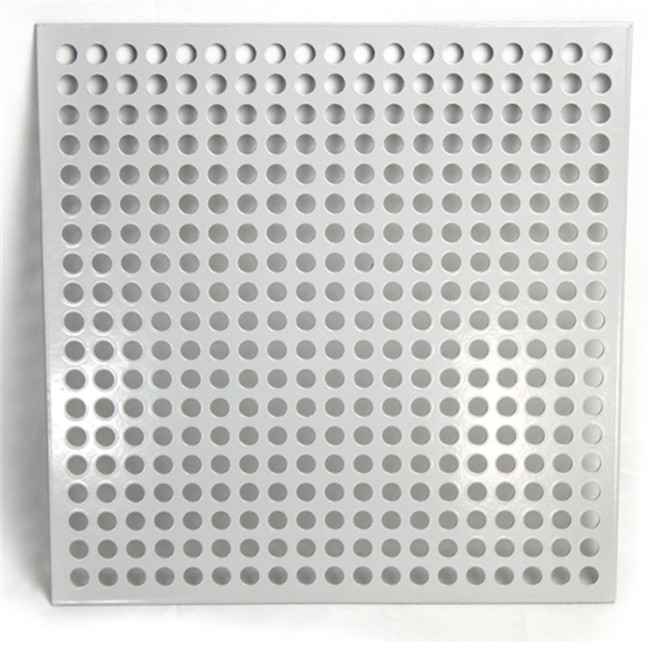Hole: (52, 41, 81, 70), (379, 190, 410, 217), (409, 189, 438, 217), (408, 130, 438, 157), (556, 130, 585, 157), (438, 189, 467, 216), (321, 190, 350, 217), (233, 191, 263, 217), (498, 40, 526, 67), (497, 129, 525, 156), (263, 160, 290, 188), (172, 39, 198, 68), (410, 39, 436, 68), (439, 131, 468, 157), (350, 131, 379, 157), (321, 131, 350, 157), (496, 190, 525, 216), (467, 190, 496, 216), (263, 190, 292, 216), (291, 191, 321, 216), (468, 40, 495, 67), (588, 40, 615, 67), (381, 130, 408, 157), (117, 162, 144, 189), (146, 161, 173, 188), (113, 72, 141, 98), (54, 72, 82, 98), (204, 161, 232, 187), (498, 159, 524, 187), (526, 190, 554, 216), (291, 41, 317, 68), (351, 40, 377, 67), (529, 40, 555, 67), (262, 101, 289, 127), (351, 101, 378, 127), (527, 101, 554, 127), (557, 101, 584, 127), (205, 131, 232, 157), (175, 161, 202, 187), (234, 161, 261, 187), (469, 160, 495, 187), (556, 160, 583, 186), (322, 41, 347, 69), (440, 39, 465, 67), (262, 131, 290, 156), (351, 191, 379, 216), (234, 102, 260, 128), (440, 101, 466, 127), (469, 101, 495, 127), (587, 100, 613, 126), (87, 132, 113, 158), (57, 162, 83, 188), (292, 160, 318, 186), (322, 161, 348, 187), (440, 161, 466, 187), (117, 191, 143, 217), (88, 191, 114, 217), (203, 40, 228, 67), (233, 41, 258, 68), (262, 41, 287, 68), (381, 40, 406, 67), (559, 40, 584, 67), (558, 71, 585, 96), (85, 103, 112, 128), (586, 130, 613, 155), (146, 132, 173, 157), (57, 133, 84, 158), (351, 161, 378, 186), (528, 160, 553, 187), (232, 72, 260, 96), (143, 73, 171, 97), (233, 132, 261, 156), (175, 192, 203, 216), (114, 42, 139, 68), (439, 71, 465, 96), (292, 72, 318, 97), (203, 72, 229, 97), (174, 72, 200, 97), (84, 72, 110, 97), (56, 103, 82, 128), (116, 103, 142, 128), (204, 102, 230, 127), (292, 102, 318, 127), (322, 101, 347, 127), (410, 101, 436, 126), (175, 132, 201, 157), (116, 131, 142, 156), (88, 161, 114, 186), (410, 161, 436, 186), (206, 191, 232, 216), (58, 192, 84, 217), (587, 71, 614, 95), (555, 191, 582, 215), (84, 42, 109, 67), (381, 101, 406, 126), (528, 130, 553, 155), (469, 131, 494, 156), (381, 161, 406, 186), (586, 190, 611, 215), (528, 72, 554, 96), (469, 71, 495, 95), (410, 72, 436, 96), (262, 72, 288, 96), (174, 102, 200, 126), (293, 132, 319, 156), (147, 192, 173, 216), (143, 41, 167, 66), (499, 71, 524, 95), (381, 72, 406, 96), (499, 101, 524, 125), (586, 161, 611, 185), (351, 72, 377, 95), (323, 72, 347, 96), (146, 103, 170, 126)
